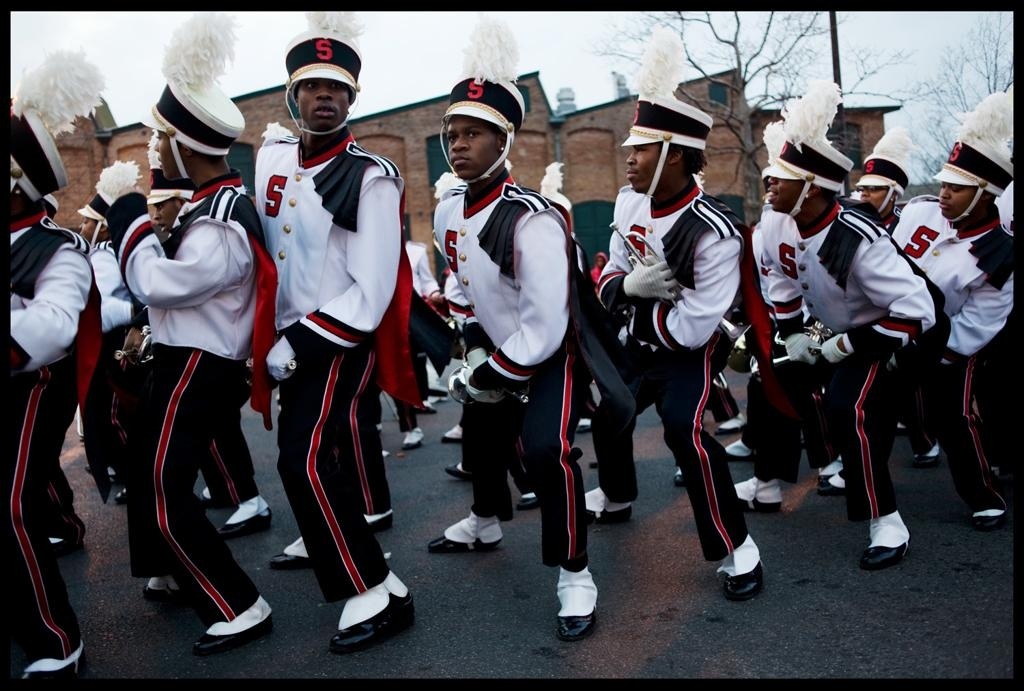human_face: (446, 108, 498, 176), (298, 70, 348, 128), (625, 134, 673, 189), (152, 127, 188, 183), (938, 170, 978, 218), (766, 166, 806, 210), (152, 188, 182, 233), (859, 176, 889, 212), (76, 209, 100, 248), (597, 256, 605, 267)
